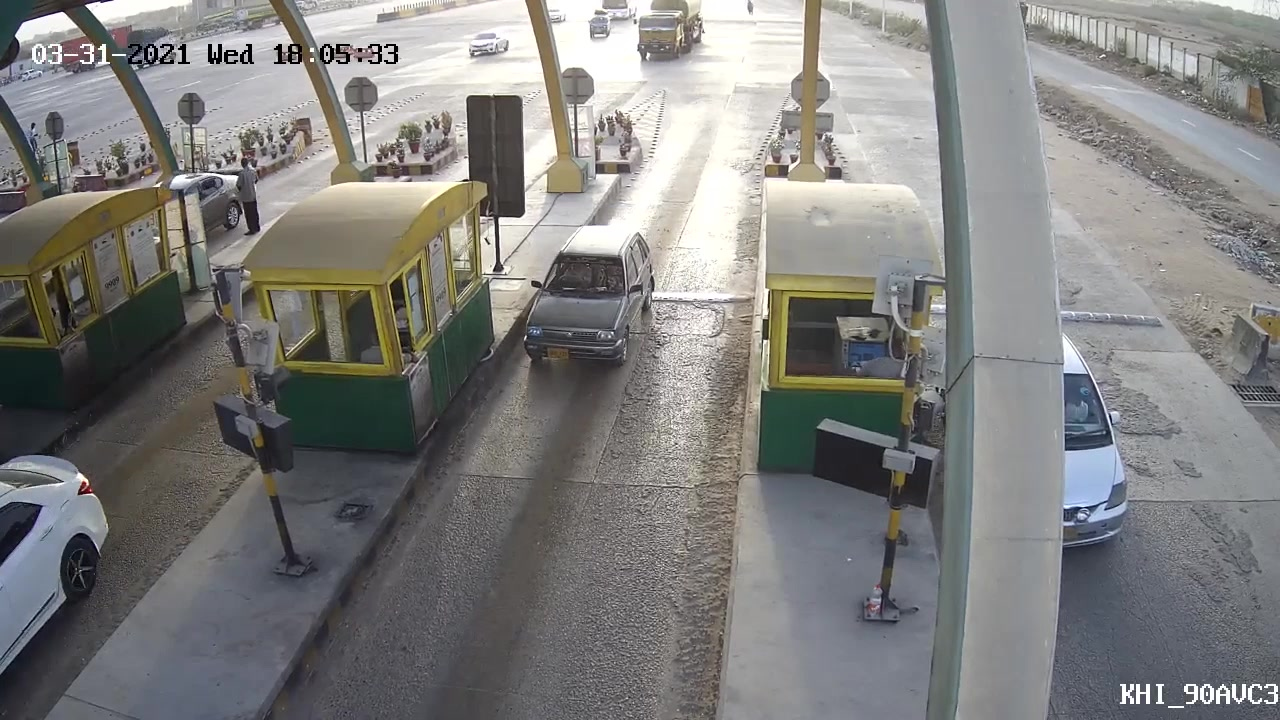F1: (514, 222, 661, 370)
